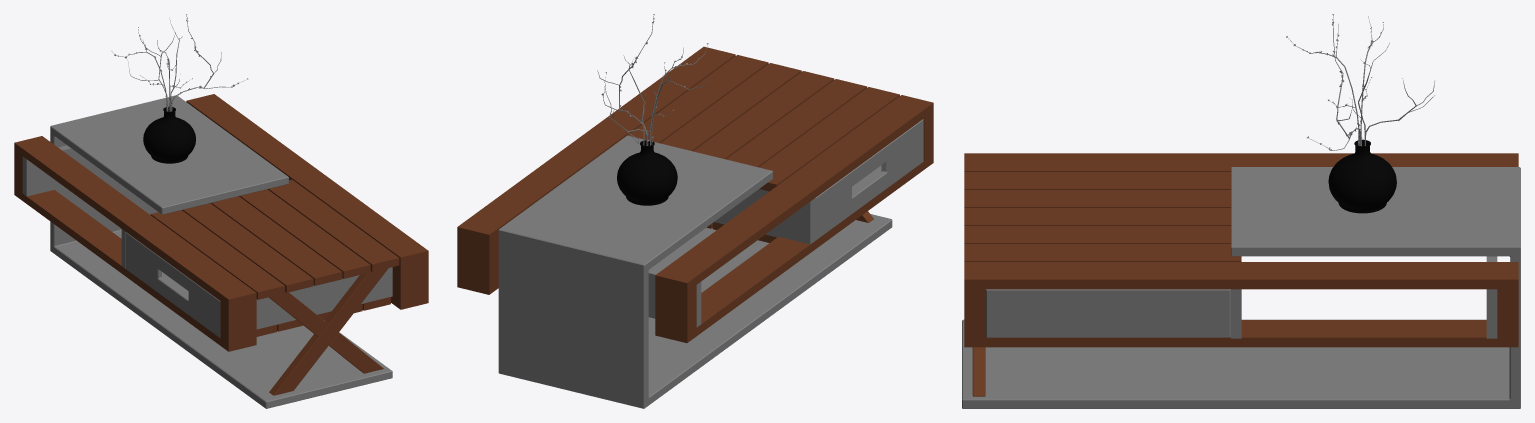
Rendered from uploads_files_3273195_coffee+table+06.fbx.
3 views of the same model, side by side, from view 1: azimuth 30°, elevation 25°; view 2: azimuth 150°, elevation 25°; view 3: azimuth 270°, elevation 25° (orthographic). The views are drawn at different scales.
Parts seen in each view (by area): view 1: Box2131639521, Box2131639523, Box2131639518, Box2131639520, Box2131637566, VRay-032, Box2131639522; view 2: Box2131639523, Box2131639521, Box2131639518, Box2131639520, VRay-032, Box2131639519, Box2131639522; view 3: Box2131639523, Box2131639521, Box2131639518, Box2131639520, VRay-032, Box2131637566, Box2131639522, Box2131639519.
Boxes of the visible parts, x1,y1,x2,y2 form: Box2131639521: (14, 94, 428, 306); Box2131639523: (50, 95, 392, 408); Box2131639518: (14, 150, 428, 351); Box2131639520: (126, 232, 392, 337); Box2131637566: (269, 268, 388, 395); VRay-032: (111, 14, 248, 163); Box2131639522: (22, 145, 109, 196); Box2131639523: (498, 135, 892, 408); Box2131639521: (457, 46, 933, 291); Box2131639518: (457, 111, 933, 342); Box2131639520: (815, 119, 923, 240); VRay-032: (597, 14, 709, 205); Box2131639519: (714, 189, 815, 244); Box2131639522: (648, 269, 701, 327); Box2131639523: (962, 167, 1520, 408); Box2131639521: (964, 153, 1518, 289); Box2131639518: (964, 289, 1518, 347); Box2131639520: (985, 289, 1230, 337); VRay-032: (1286, 14, 1434, 213); Box2131637566: (972, 347, 985, 396); Box2131639522: (1486, 256, 1497, 338); Box2131639519: (1231, 256, 1241, 338).
Size of the model in its own units: 70 by 91.93 by 131.
